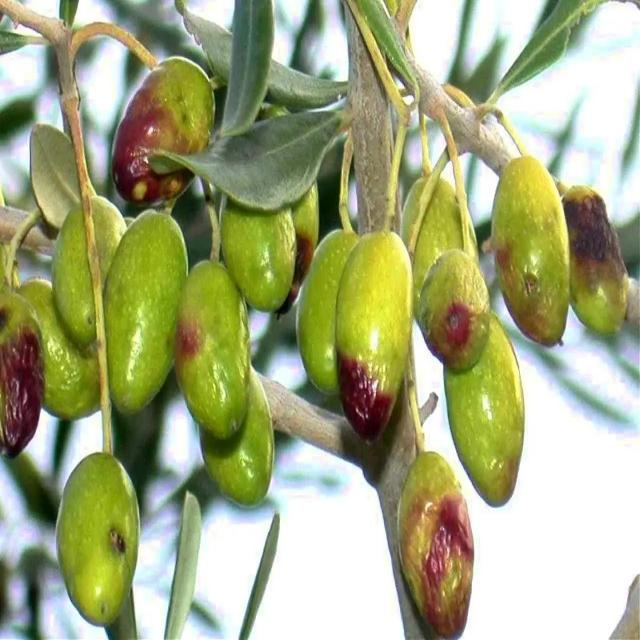Olive Fruit Fly: (336, 230, 412, 440), (112, 56, 214, 206), (492, 156, 570, 346), (58, 452, 140, 627), (398, 452, 474, 639), (564, 186, 628, 335), (416, 250, 490, 371)
